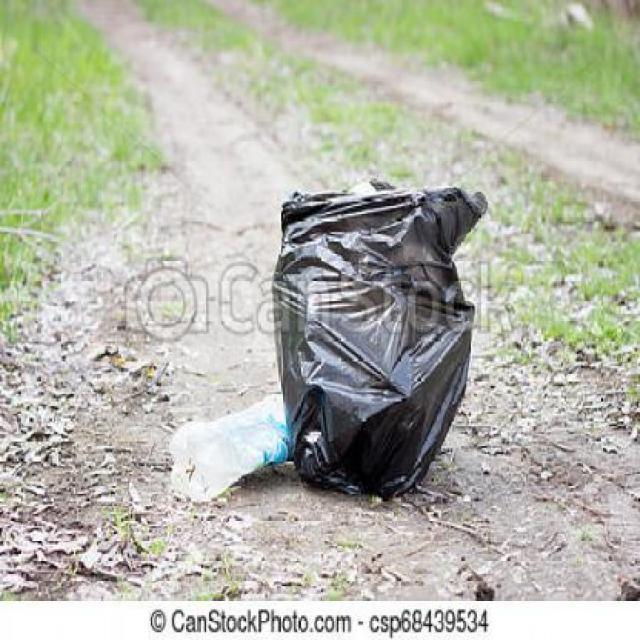garbage: (211, 134, 517, 518)
